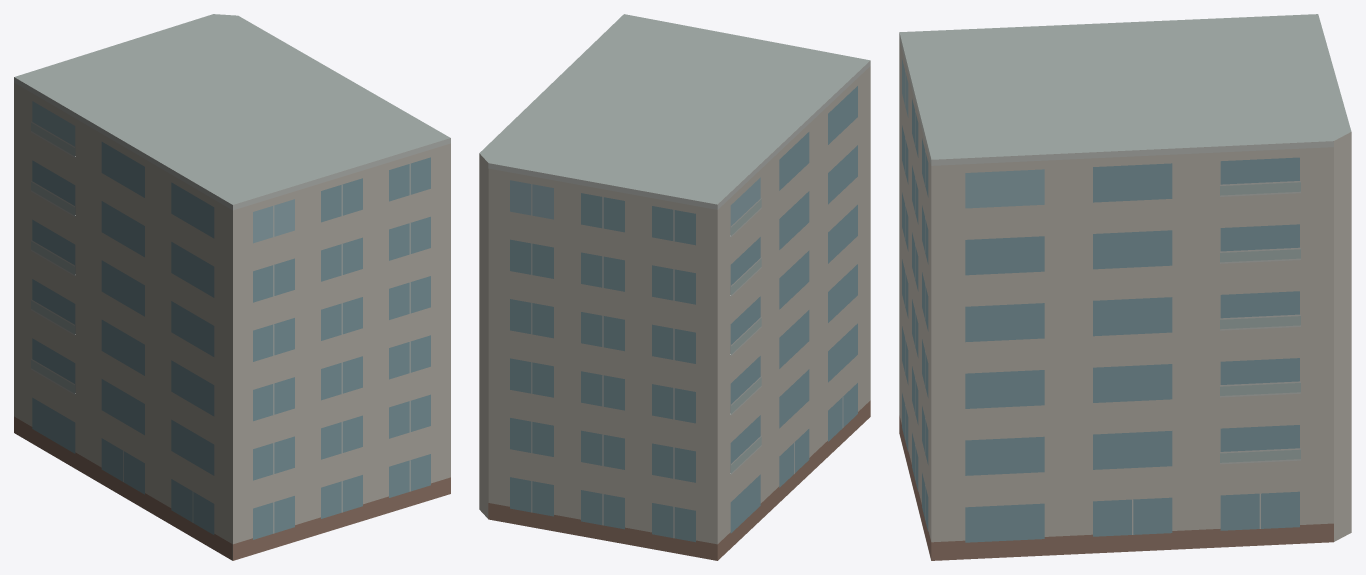
Rendered from survey-upis-32603770.glb.
3 views of the same model, side by side, from view 1: azimuth 30°, elevation 25°; view 2: azimuth 150°, elevation 25°; view 3: azimuth 270°, elevation 25° (orthographic). The views are drawn at different scales.
Visible parts, largest first — view 1: survey-upis-32603770.tmp; view 2: survey-upis-32603770.tmp; view 3: survey-upis-32603770.tmp.
Part boxes in pixels (x1,y1,x2,y2): survey-upis-32603770.tmp: (14, 14, 450, 560); survey-upis-32603770.tmp: (479, 14, 870, 560); survey-upis-32603770.tmp: (899, 14, 1351, 560).
Bounding box in the file's own units: 12.48 × 16 × 16.36.
